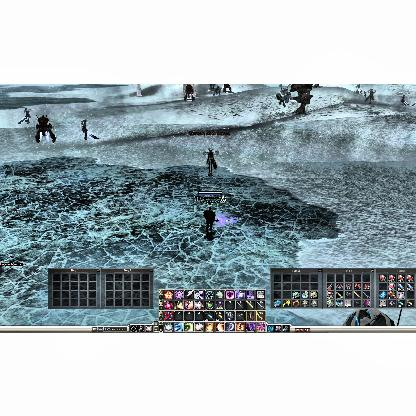caliana: (202, 147, 219, 175), (79, 118, 99, 140), (17, 107, 31, 123), (400, 93, 410, 104)
